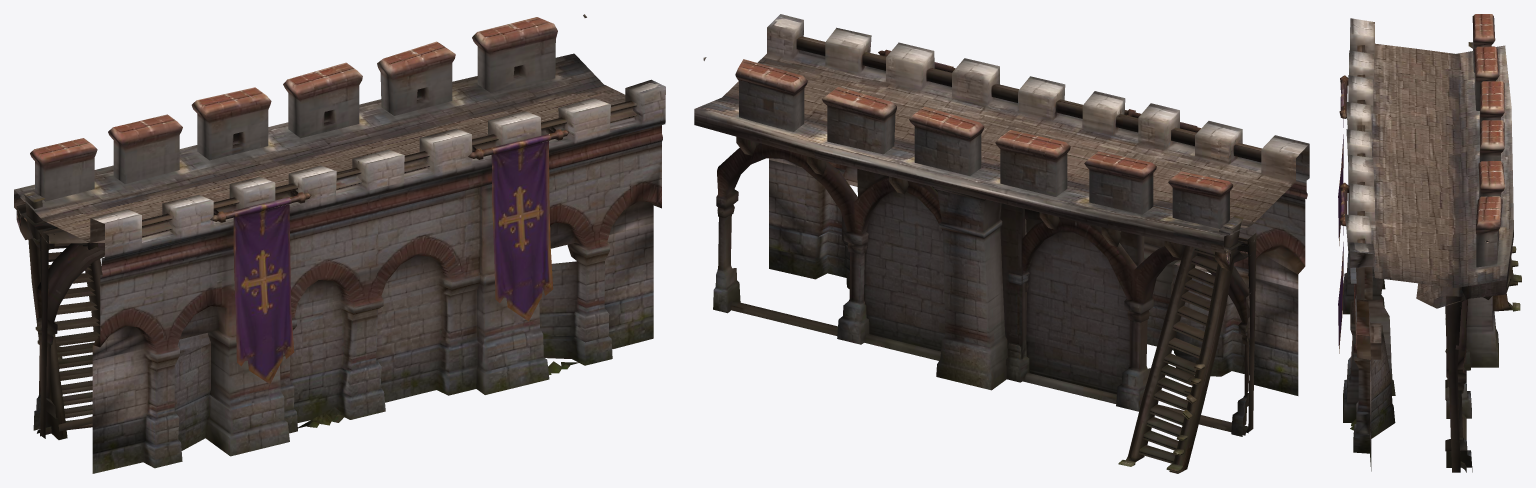
Rendered from WallRunLeft_01.fbx.
3 views of the same model, side by side, from view 1: azimuth 30°, elevation 25°; view 2: azimuth 150°, elevation 25°; view 3: azimuth 270°, elevation 25° (orthographic). The views are drawn at different scales.
Parts seen in each view (by area): view 1: WallRunLeft_01; view 2: WallRunLeft_01; view 3: WallRunLeft_01.
Boxes of the visible parts, x1,y1,x2,y2 form: WallRunLeft_01: [14, 14, 665, 473]; WallRunLeft_01: [694, 14, 1309, 473]; WallRunLeft_01: [1338, 14, 1521, 472].
Size of the model in its own units: 1224 by 650 by 407.
1 material, 1 textured.
